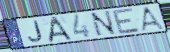4: (72, 13, 93, 39)
A: (140, 6, 167, 33), (49, 15, 74, 44)
E: (111, 7, 142, 36)
J: (27, 20, 44, 43)
N: (89, 9, 119, 38)
